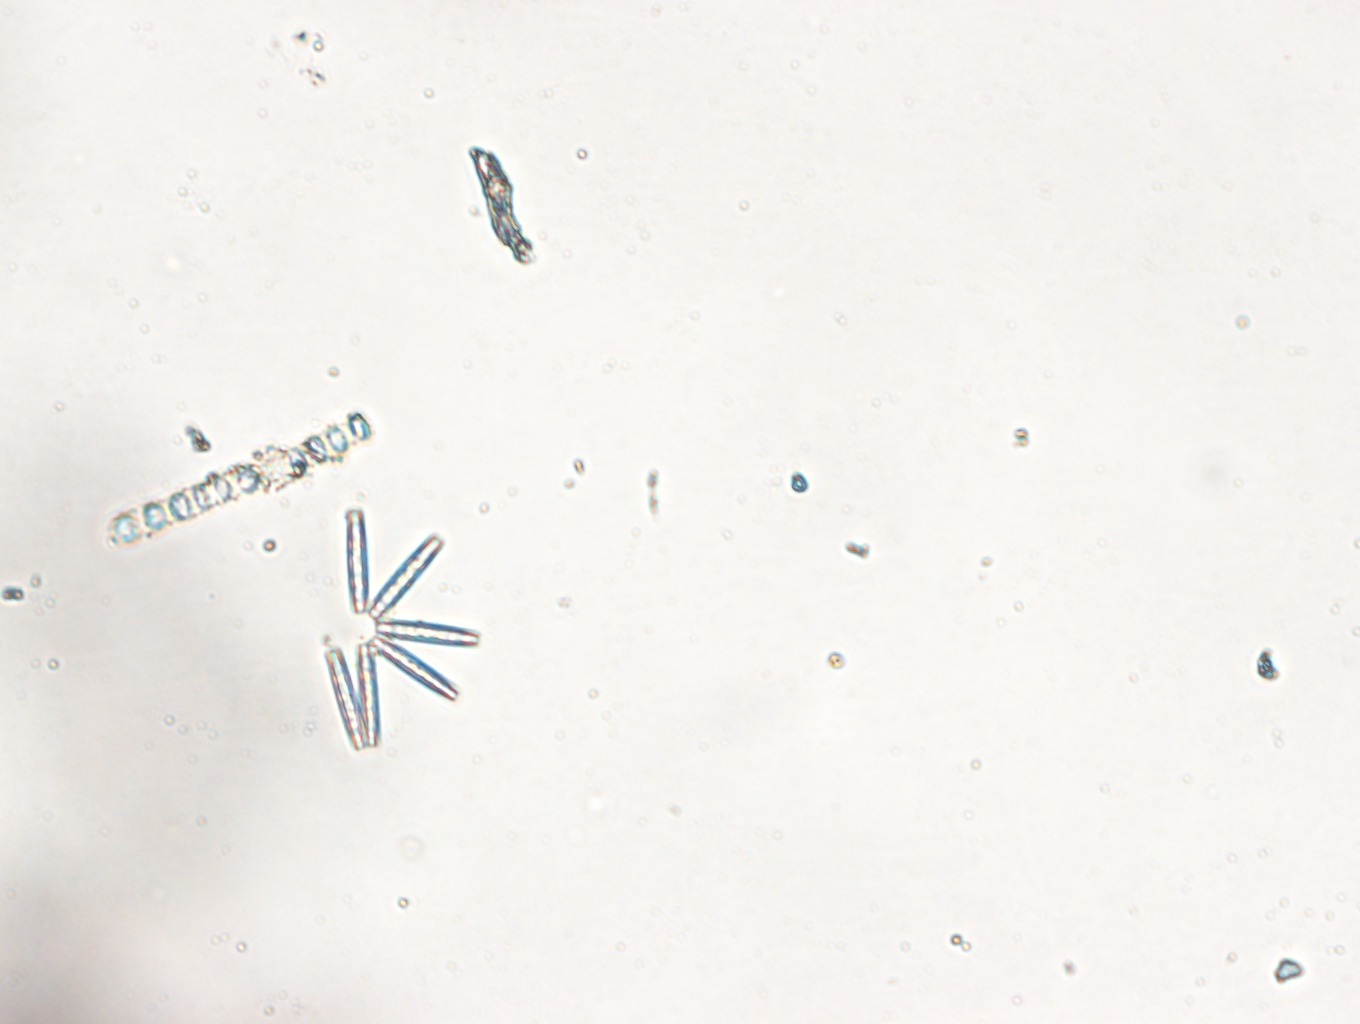skeletonema: (105, 414, 374, 544)
thalassionema nitzschioides: (325, 509, 479, 752)
